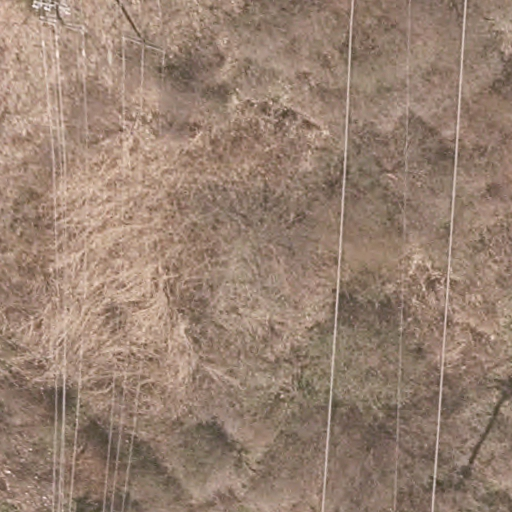DT: (121, 27, 168, 64), (31, 1, 73, 24)
